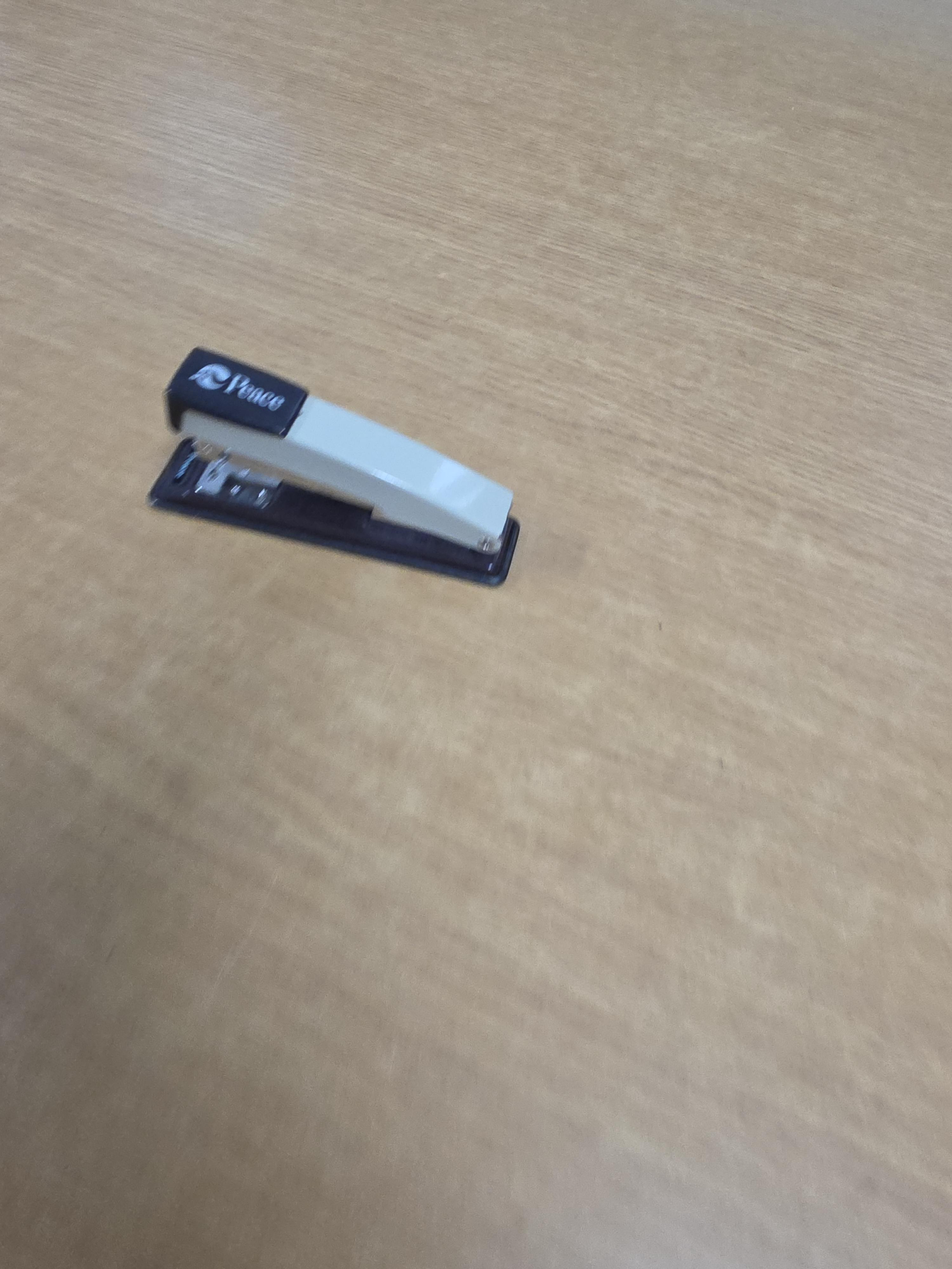stapler: (148, 346, 521, 588)
